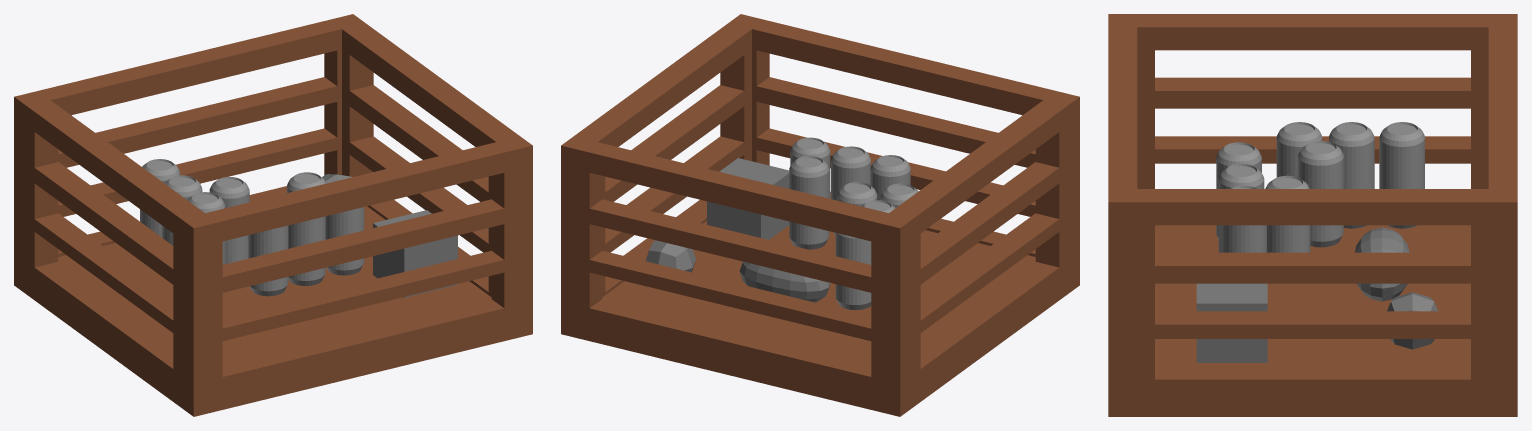
File: crateWithFood.fbx
3 views of the same model, side by side, from view 1: azimuth 30°, elevation 25°; view 2: azimuth 150°, elevation 25°; view 3: azimuth 270°, elevation 25° (orthographic). The views are drawn at different scales.
Parts seen in each view (by area): view 1: Cube; view 2: Cube; view 3: Cube.
Boxes of the visible parts, left/top/right/bottom form: Cube: left=14, top=14, right=532, bottom=416; Cube: left=561, top=14, right=1079, bottom=416; Cube: left=1108, top=14, right=1517, bottom=416.
Size of the model in its own units: 376 by 200 by 345.
